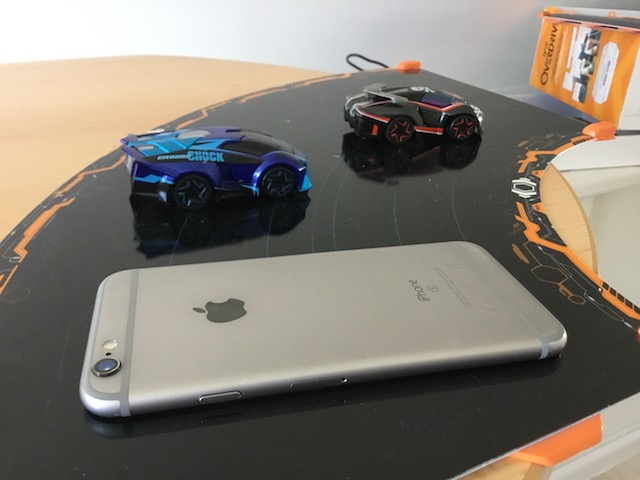car-blue: (116, 121, 316, 211)
car-red: (341, 81, 486, 151)
phone: (76, 236, 571, 422)
